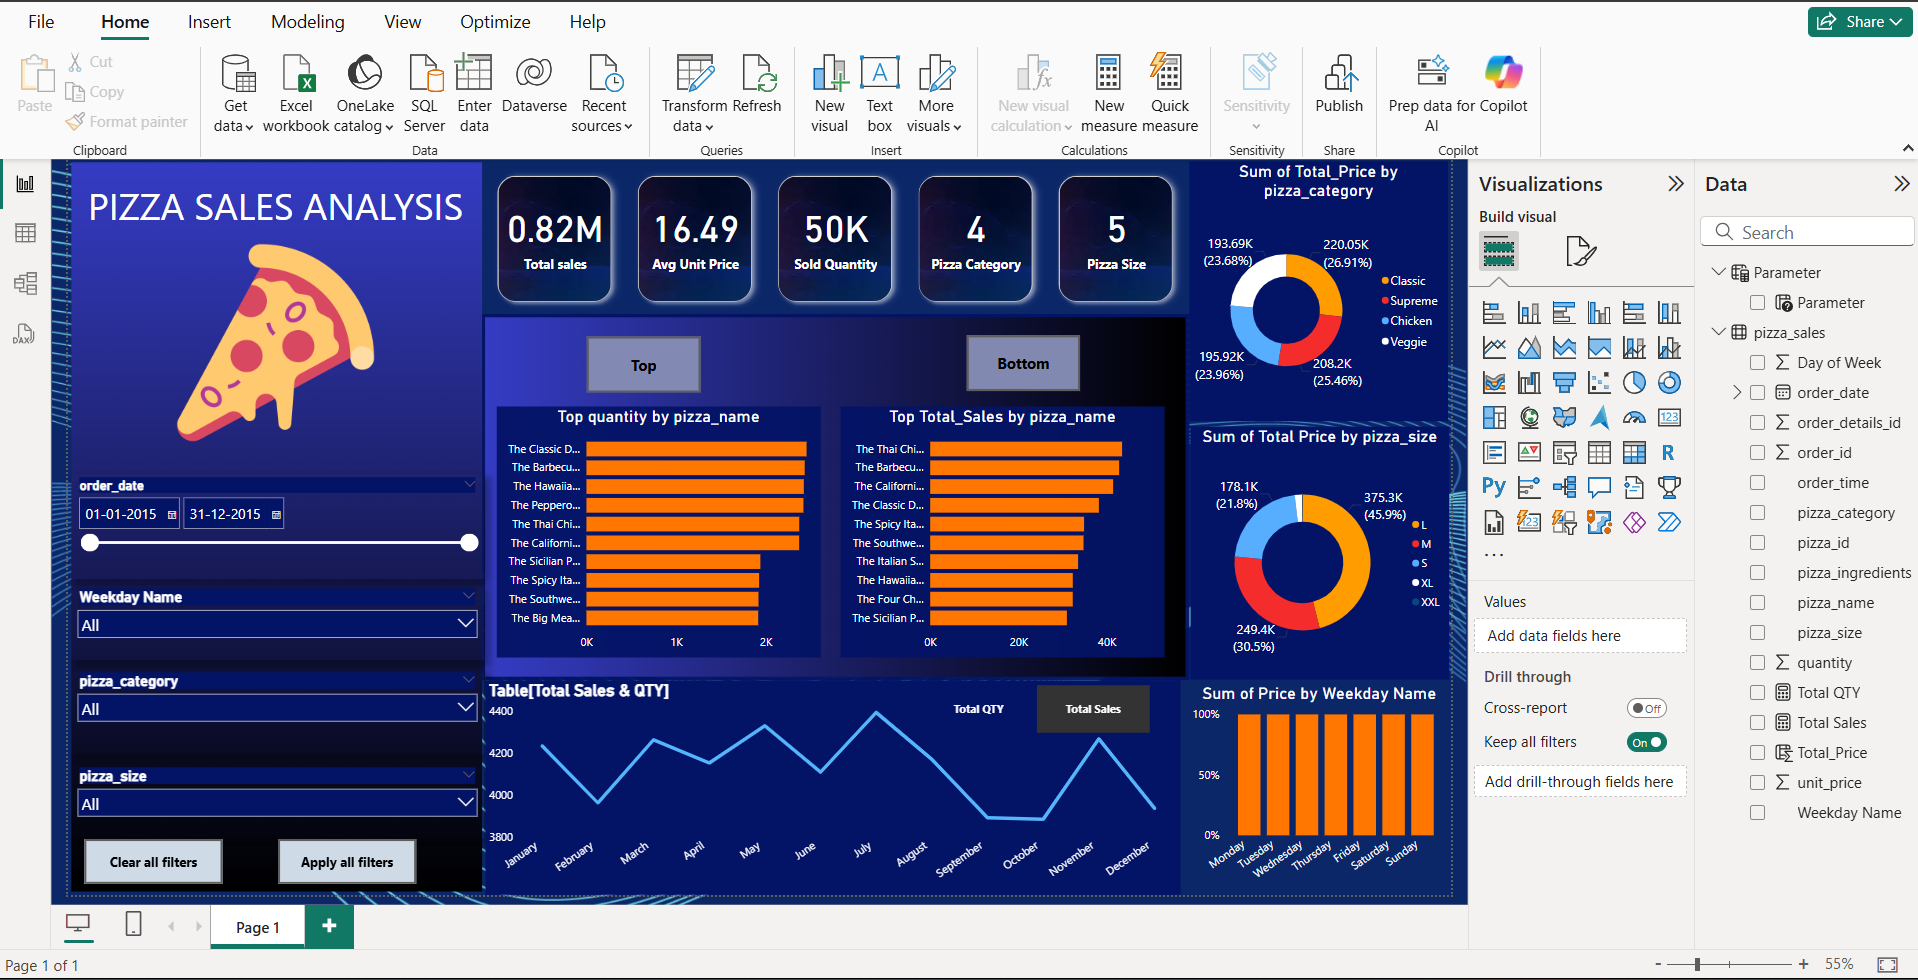

This screenshot's page, from the dashboard's own definition file:
{"tool":"powerbi","page":{"name":"Duplicate of Page 1","canvas":[2000,1065],"ordinal":1},"visuals":[{"type":"image","title":"Bg Image","box":[0,0,604,1065],"z":0,"group":"g2"},{"type":"image","title":"Bg Image","box":[37.8,233,1467.2,529],"z":0,"group":"g1"},{"type":"lineChart","title":"Table[Total Sales & QTY]","fields":{"Y":["pizza_sales.Total QTY"],"Category":["pizza_sales.order_date.Variation.Date Hierarchy.Month"]},"box":[25.2,754.5,1475.7,309.8],"z":0},{"type":"textbox","box":[0,25.3,600.5,90.4],"z":1000,"group":"g2"},{"type":"hundredPercentStackedColumnChart","title":"Sum of Price by Weekday Name","fields":{"Y":["Sum(pizza_sales.Total_Price)"],"Category":["pizza_sales.Day Name"]},"box":[1505,759.9,495.4,304.4],"z":1000},{"type":"slicer","fields":{"Values":["pizza_sales.order_date"]},"box":[3.6,455.8,598.7,151.9],"z":2000,"group":"g2"},{"type":"slicer","fields":{"Values":["Parameter.Parameter"]},"box":[912.4,753.6,373.5,82.7],"z":2000},{"type":"donutChart","fields":{"Y":["Sum(pizza_sales.Total_Sales)"],"Category":["pizza_sales.pizza_category"]},"box":[1505,4.2,491.2,375.7],"z":3000},{"type":"actionButton","title":"Top_Button","box":[213.5,263.1,236.1,80.9],"z":3000,"group":"g1"},{"type":"slicer","fields":{"Values":["pizza_sales.Weekday Name"]},"box":[3.6,616.8,598.7,108.5],"z":3000,"group":"g2"},{"type":"barChart","title":"Top Total_Sales by pizza_name","fields":{"Category":["pizza_sales.pizza_name"],"Y":["Sum(pizza_sales.Total_Sales)"]},"box":[739,365.2,671.6,362.3],"z":4000,"group":"g1"},{"type":"donutChart","title":"Sum of Total Price by pizza_size","fields":{"Category":["pizza_sales.pizza_size"],"Y":["Sum(pizza_sales.Total_Sales)"]},"box":[1500.8,386.2,499.6,367.3],"z":4000},{"type":"slicer","fields":{"Values":["pizza_sales.pizza_category"]},"box":[3.6,738,598.7,123],"z":4000,"group":"g2"},{"type":"cardVisual","fields":{"Data":["Sum(pizza_sales.Total_Sales)","Avg(pizza_sales.unit_price)","Sum(pizza_sales.quantity)","Count(pizza_sales.pizza_category)","Count(pizza_sales.pizza_size)","CountNonNull(pizza_sales.order_id)"]},"box":[181.3,2.6,1318.7,225.4],"z":5000},{"type":"actionButton","title":"Buttom_Button","box":[999.7,261.9,235,80.6],"z":5000,"group":"g1"},{"type":"slicer","fields":{"Values":["pizza_sales.pizza_size"]},"box":[3.6,875.4,598.7,108.5],"z":5000,"group":"g2"},{"type":"group","id":"g1","title":"Top & Bottom Data","box":[25.2,233,1479.9,529],"z":6000},{"type":"barChart","title":"Top quantity by pizza_name","fields":{"Category":["pizza_sales.pizza_name"],"Y":["Sum(pizza_sales.quantity)"]},"box":[25.2,365.2,671.6,362.3],"z":6000,"group":"g1"},{"type":"actionButton","title":"Clear_Button","box":[23.7,984.7,200.2,65],"z":6000,"group":"g2"},{"type":"group","id":"g2","title":"Pizza Logo & Slicers","box":[0,0,604,1065],"z":7000},{"type":"image","title":"Pizza Image","box":[0,115.4,600.3,300.2],"z":7000,"group":"g2"},{"type":"image","title":" img btn","box":[449.6,132.9,134.7,94.6],"z":8000,"group":"g2"},{"type":"actionButton","title":"Button on","box":[436.8,122,160.2,111],"z":9000,"group":"g2"},{"type":"group","id":"g3","title":"Group 1","box":[0,43.2,193.6,142.9],"z":9001},{"type":"actionButton","title":"Apply_Button","box":[303.9,984,200,65.1],"z":10000,"group":"g2"}]}

Visuals, with their boxes on the page's 2000x1065 design canvas (x1, y1, x2, y2). These are canvas units, not pixel positions in the 1918x980 screenshot, which may show the page scaled, cropped or inside an application window:
"Bg Image" image: {"left": 0, "top": 0, "right": 604, "bottom": 1065}
"Bg Image" image: {"left": 38, "top": 233, "right": 1505, "bottom": 762}
"Table[Total Sales & QTY]" lineChart: {"left": 25, "top": 754, "right": 1501, "bottom": 1064}
textbox: {"left": 0, "top": 25, "right": 600, "bottom": 116}
"Sum of Price by Weekday Name" hundredPercentStackedColumnChart: {"left": 1505, "top": 760, "right": 2000, "bottom": 1064}
slicer - pizza_sales.order_date: {"left": 4, "top": 456, "right": 602, "bottom": 608}
slicer - Parameter.Parameter: {"left": 912, "top": 754, "right": 1286, "bottom": 836}
donutChart - Sum(pizza_sales.Total_Sales) x pizza_sales.pizza_category: {"left": 1505, "top": 4, "right": 1996, "bottom": 380}
"Top_Button" actionButton: {"left": 214, "top": 263, "right": 450, "bottom": 344}
slicer - pizza_sales.Weekday Name: {"left": 4, "top": 617, "right": 602, "bottom": 725}
"Top Total_Sales by pizza_name" barChart: {"left": 739, "top": 365, "right": 1411, "bottom": 728}
"Sum of Total Price by pizza_size" donutChart: {"left": 1501, "top": 386, "right": 2000, "bottom": 754}
slicer - pizza_sales.pizza_category: {"left": 4, "top": 738, "right": 602, "bottom": 861}
cardVisual - Sum(pizza_sales.Total_Sales) x Avg(pizza_sales.unit_price): {"left": 181, "top": 3, "right": 1500, "bottom": 228}
"Buttom_Button" actionButton: {"left": 1000, "top": 262, "right": 1235, "bottom": 342}
slicer - pizza_sales.pizza_size: {"left": 4, "top": 875, "right": 602, "bottom": 984}
"Top & Bottom Data" group: {"left": 25, "top": 233, "right": 1505, "bottom": 762}
"Top quantity by pizza_name" barChart: {"left": 25, "top": 365, "right": 697, "bottom": 728}
"Clear_Button" actionButton: {"left": 24, "top": 985, "right": 224, "bottom": 1050}
"Pizza Logo & Slicers" group: {"left": 0, "top": 0, "right": 604, "bottom": 1065}
"Pizza Image" image: {"left": 0, "top": 115, "right": 600, "bottom": 416}
" img btn" image: {"left": 450, "top": 133, "right": 584, "bottom": 228}
"Button on" actionButton: {"left": 437, "top": 122, "right": 597, "bottom": 233}
"Group 1" group: {"left": 0, "top": 43, "right": 194, "bottom": 186}
"Apply_Button" actionButton: {"left": 304, "top": 984, "right": 504, "bottom": 1049}
